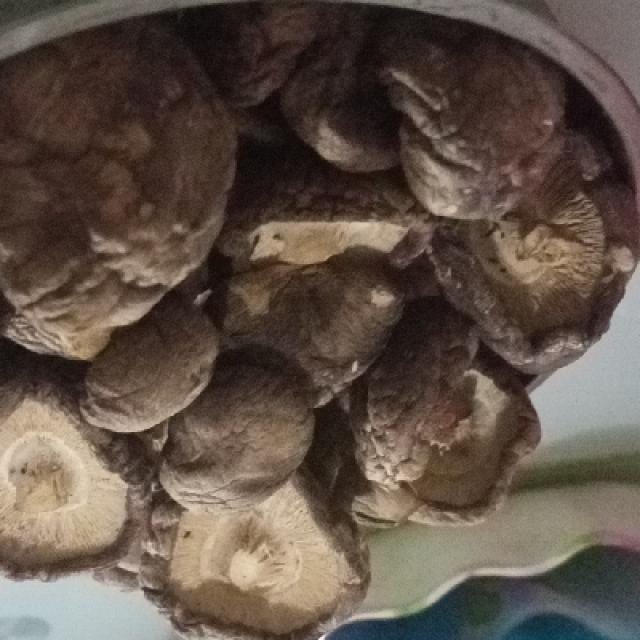Lentinus edodes: (0, 29, 237, 355), (427, 167, 635, 373), (389, 17, 575, 206), (144, 482, 371, 633), (356, 367, 539, 531), (0, 384, 140, 578), (164, 346, 315, 501)
